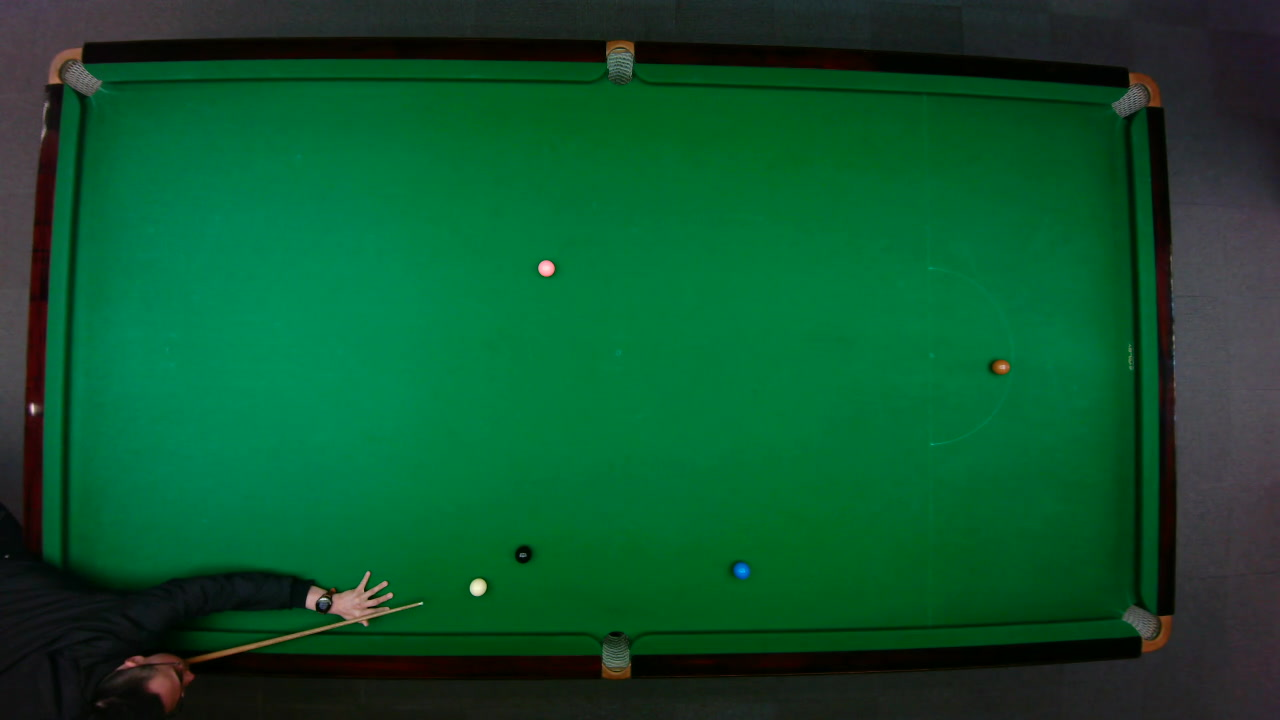bag: (46, 46, 102, 96), (1119, 603, 1171, 652), (1108, 71, 1162, 118), (600, 629, 630, 680), (605, 38, 633, 85)
black: (514, 544, 532, 563)
blue: (731, 560, 750, 579)
brown: (990, 358, 1010, 374)
cue: (186, 597, 427, 665)
pink: (536, 258, 555, 277)
white: (467, 576, 487, 597)
zone: (927, 265, 1012, 445)
